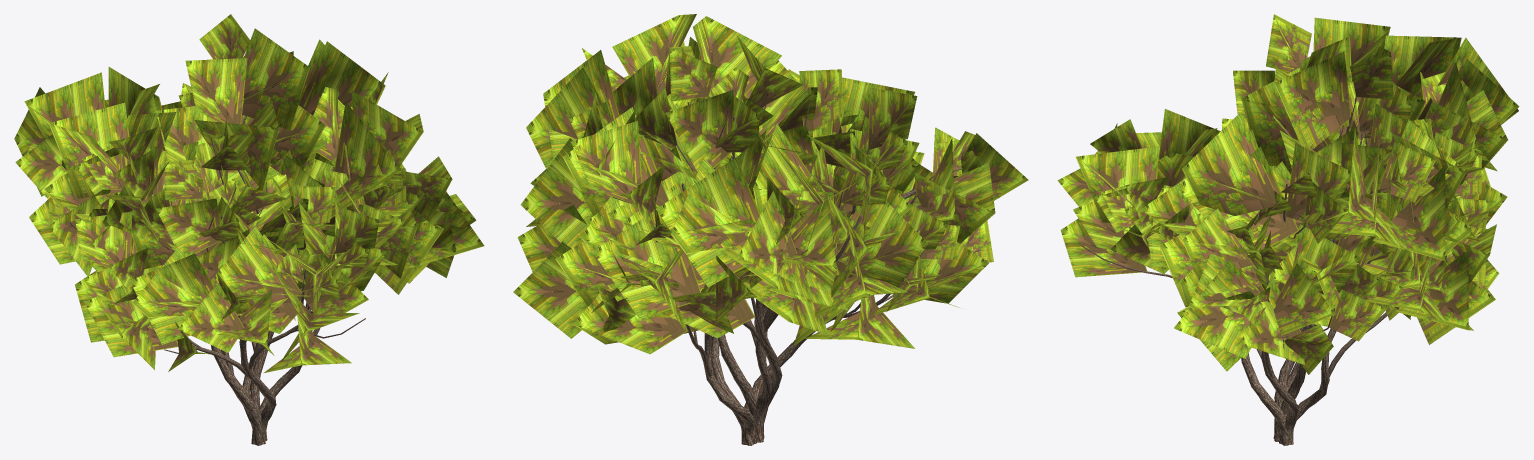
Rendered from oak.fbx.
3 views of the same model, side by side, from view 1: azimuth 30°, elevation 25°; view 2: azimuth 150°, elevation 25°; view 3: azimuth 270°, elevation 25° (orthographic). The views are drawn at different scales.
Parts seen in each view (by area): view 1: Group2, Group1; view 2: Group1, Group2; view 3: Group1, Group2.
Boxes of the visible parts, <box> form: Group2: <box>75,142,484,441</box>; Group1: <box>14,14,423,445</box>; Group1: <box>520,14,927,443</box>; Group2: <box>513,69,1028,445</box>; Group1: <box>1177,14,1519,441</box>; Group2: <box>1057,109,1499,445</box>.
Bounding box in the file's own units: 17.62 × 17.94 × 18.65.
